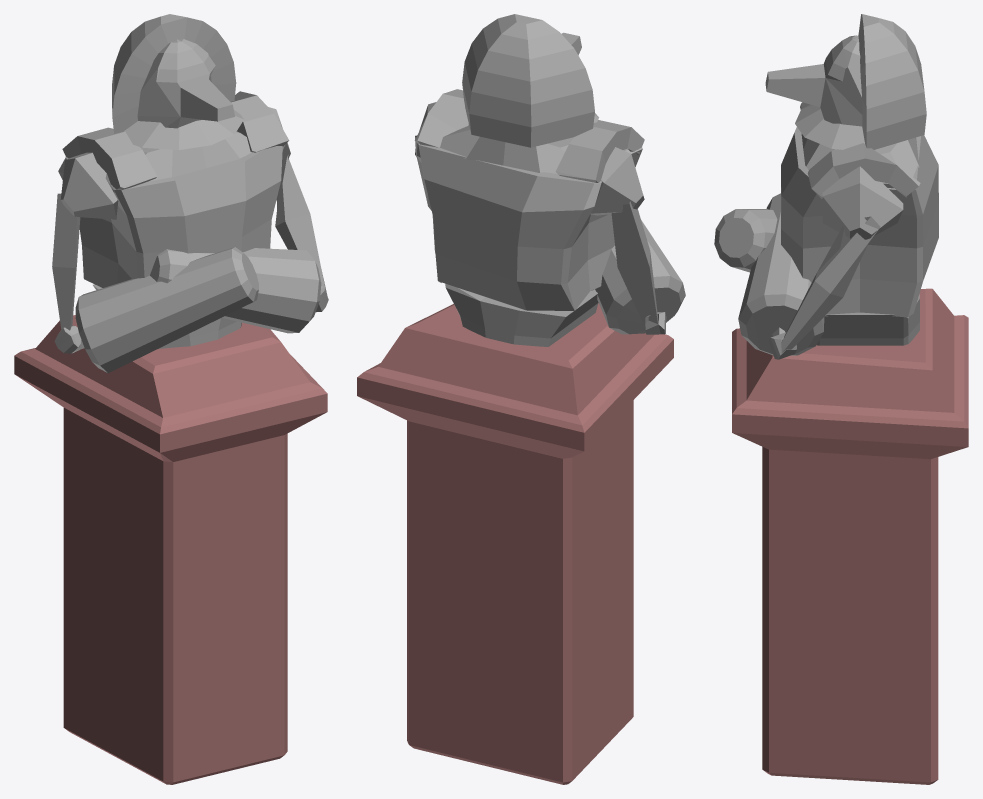
The model's file is BUSTO_SOLDADO_LOD02.fbx.
The picture shows the model from 3 angles, left to right: view 1: azimuth 30°, elevation 25°; view 2: azimuth 150°, elevation 25°; view 3: azimuth 270°, elevation 25°; orthographic projection.
Visible parts, largest first — view 1: polySurface77SOLDADO1; view 2: polySurface77SOLDADO1; view 3: polySurface77SOLDADO1.
Boxes of the visible parts, x1,y1,x2,y2 form: polySurface77SOLDADO1: (14, 14, 328, 784); polySurface77SOLDADO1: (357, 14, 685, 784); polySurface77SOLDADO1: (714, 14, 968, 784).
Size of the model in its own units: 44.4 by 124 by 39.33.
